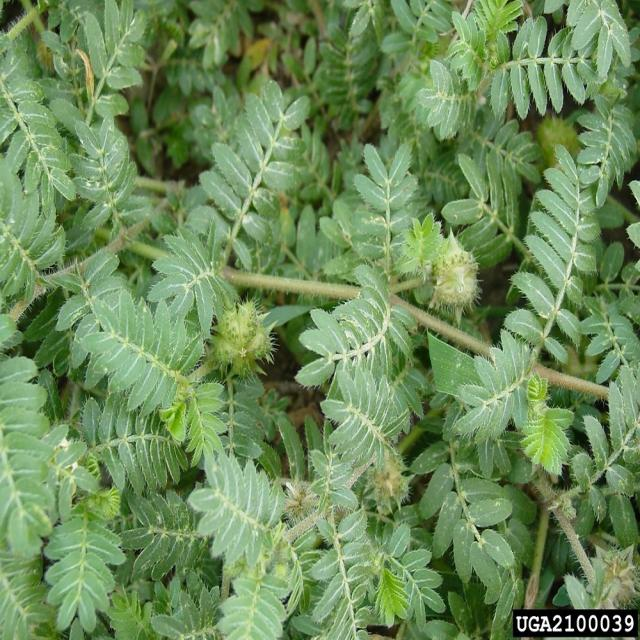Gokharu: (0, 339, 450, 640), (301, 4, 640, 396), (181, 255, 572, 583), (320, 174, 615, 464), (12, 29, 305, 294), (60, 255, 297, 502), (187, 104, 379, 310)
